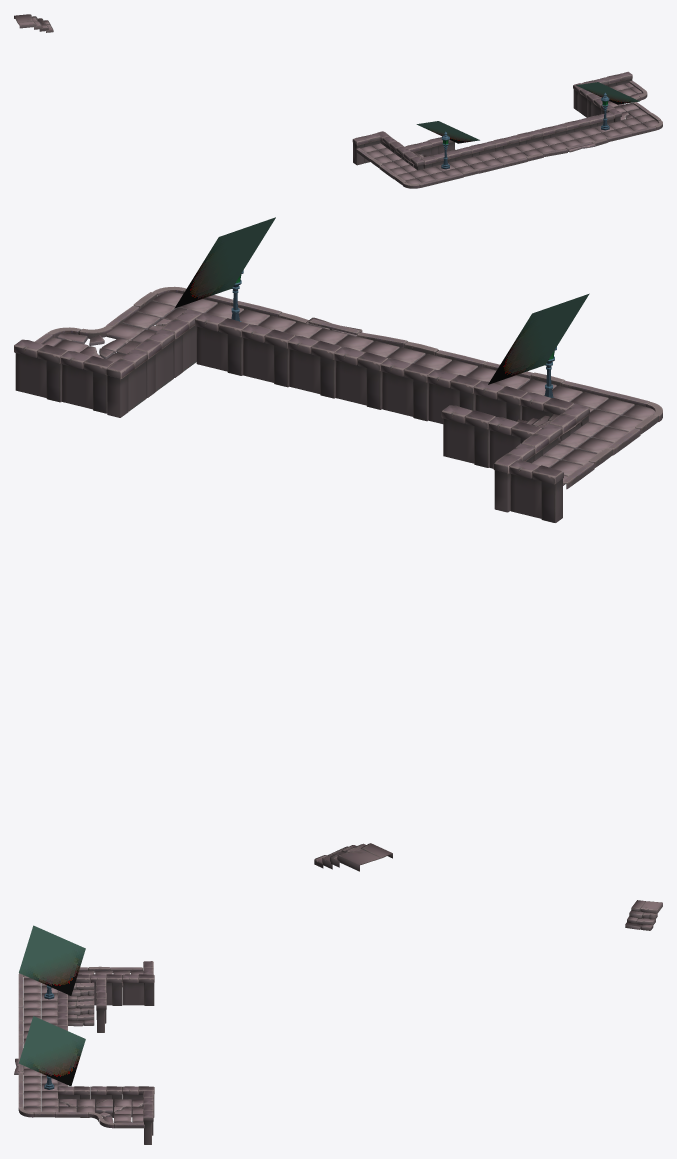
File: Wall.fbx
3 views of the same model, one above another, from view 1: azimuth 30°, elevation 25°; view 2: azimuth 150°, elevation 25°; view 3: azimuth 270°, elevation 25° (orthographic). The views are drawn at different scales.
Parts seen in each view (by area): view 1: glowingHaloPlane (1) (×2), HarbourWall1 (8), Stonewall_Stairs_01 (2), HarbourWall1 (16), HarbourWall1 (17), HarbourWall1 (20), HarbourWall1, HarbourWall1 (3), HarbourWall1 (2), HarbourWall1 (1), HarbourWall1 (5), HarbourWall1 (10) (+2 smaller); view 2: glowingHaloPlane (1) (×2), HarbourWall1 (8), HarbourWall1 (3), HarbourWall1 (20), HarbourWall1, HarbourWall1 (4), HarbourWall1 (10), HarbourWall1 (5), HarbourWall1 (2), HarbourWall1 (11), HarbourWall1 (16), HarbourWall1 (1) (+7 smaller); view 3: glowingHaloPlane (1) (×2), HarbourWall1 (13), Stonewall_Stairs_01 (2), HarbourWall1 (14), Stonewall_Stairs_01 (1), HarbourWall1 (17), HarbourWall1 (18), Stonewall_Stairs_01, HarbourWall1 (16), HarbourWall1 (20), HarbourWall1 (10).
Boxes of the visible parts, x1,y1,x2,y2 form: glowingHaloPlane (1) (×2): [416, 82, 639, 143]; HarbourWall1 (8): [352, 133, 380, 165]; Stonewall_Stairs_01 (2): [14, 14, 53, 32]; HarbourWall1 (16): [573, 83, 592, 117]; HarbourWall1 (17): [587, 93, 602, 117]; HarbourWall1 (20): [427, 137, 454, 154]; HarbourWall1: [492, 135, 519, 151]; HarbourWall1 (3): [516, 129, 543, 145]; HarbourWall1 (2): [539, 123, 566, 139]; HarbourWall1 (1): [468, 141, 495, 156]; HarbourWall1 (5): [563, 118, 590, 133]; HarbourWall1 (10): [605, 71, 632, 87]; glowingHaloPlane (1) (×2): [174, 217, 589, 384]; HarbourWall1 (8): [509, 460, 563, 522]; HarbourWall1 (3): [334, 347, 387, 409]; HarbourWall1 (20): [441, 405, 495, 467]; HarbourWall1: [380, 358, 434, 421]; HarbourWall1 (4): [195, 313, 248, 375]; HarbourWall1 (10): [14, 339, 67, 402]; HarbourWall1 (5): [241, 324, 294, 387]; HarbourWall1 (2): [288, 336, 341, 398]; HarbourWall1 (11): [60, 351, 113, 413]; HarbourWall1 (16): [106, 349, 147, 417]; HarbourWall1 (1): [427, 370, 480, 423]; glowingHaloPlane (1) (×2): [18, 925, 85, 1086]; HarbourWall1 (13): [122, 974, 154, 1005]; Stonewall_Stairs_01 (2): [625, 900, 662, 930]; HarbourWall1 (14): [90, 974, 122, 1005]; Stonewall_Stairs_01 (1): [68, 1000, 94, 1026]; HarbourWall1 (17): [90, 1086, 122, 1117]; HarbourWall1 (18): [58, 1086, 89, 1117]; Stonewall_Stairs_01: [68, 978, 94, 1003]; HarbourWall1 (16): [122, 1086, 154, 1117]; HarbourWall1 (20): [96, 992, 106, 1032]; HarbourWall1 (10): [143, 1104, 153, 1144].
Size of what is drawn, in the model's own units: 35.14 by 5.97 by 42.35.
